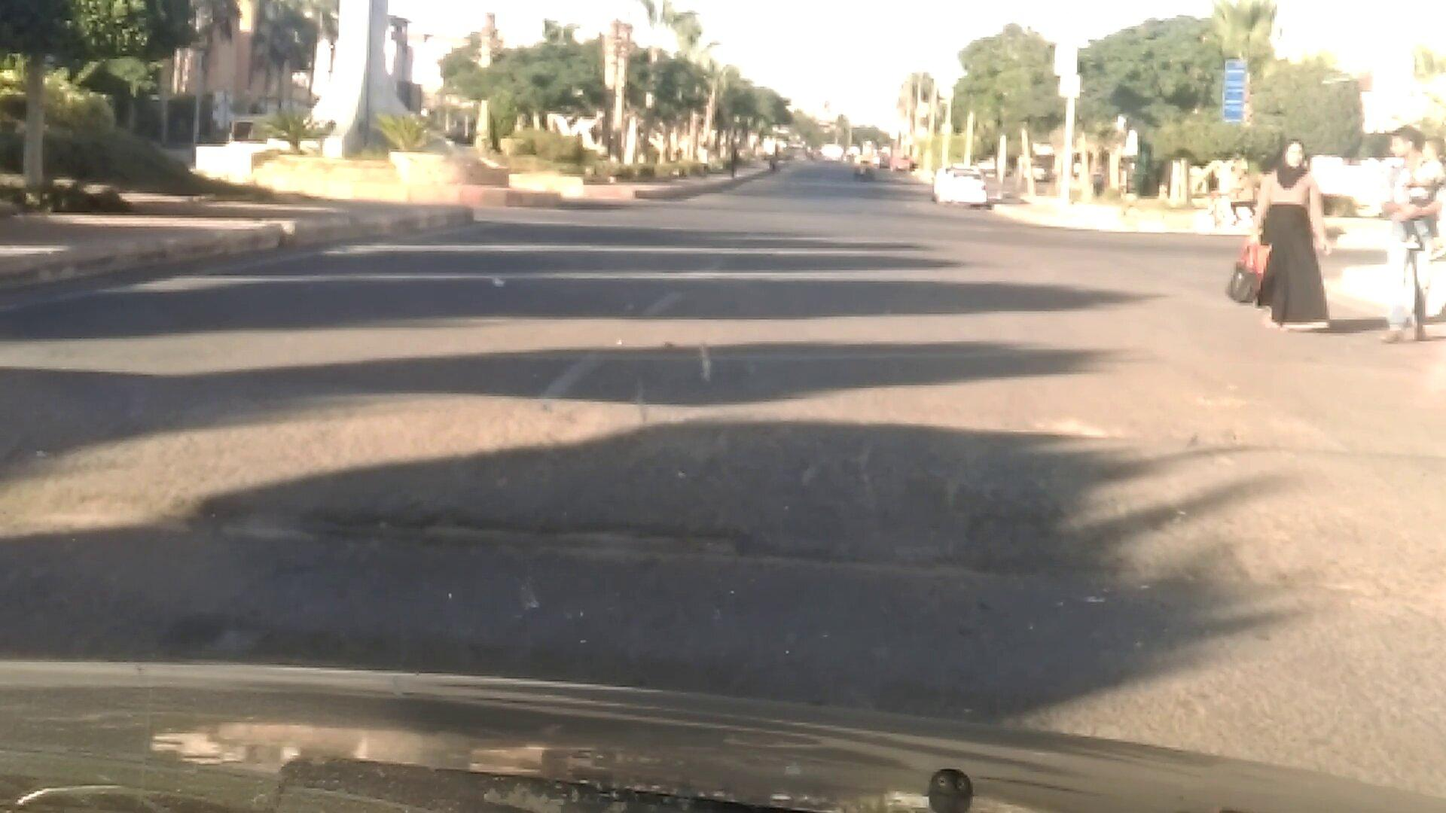Bump: (0, 370, 1438, 605)
